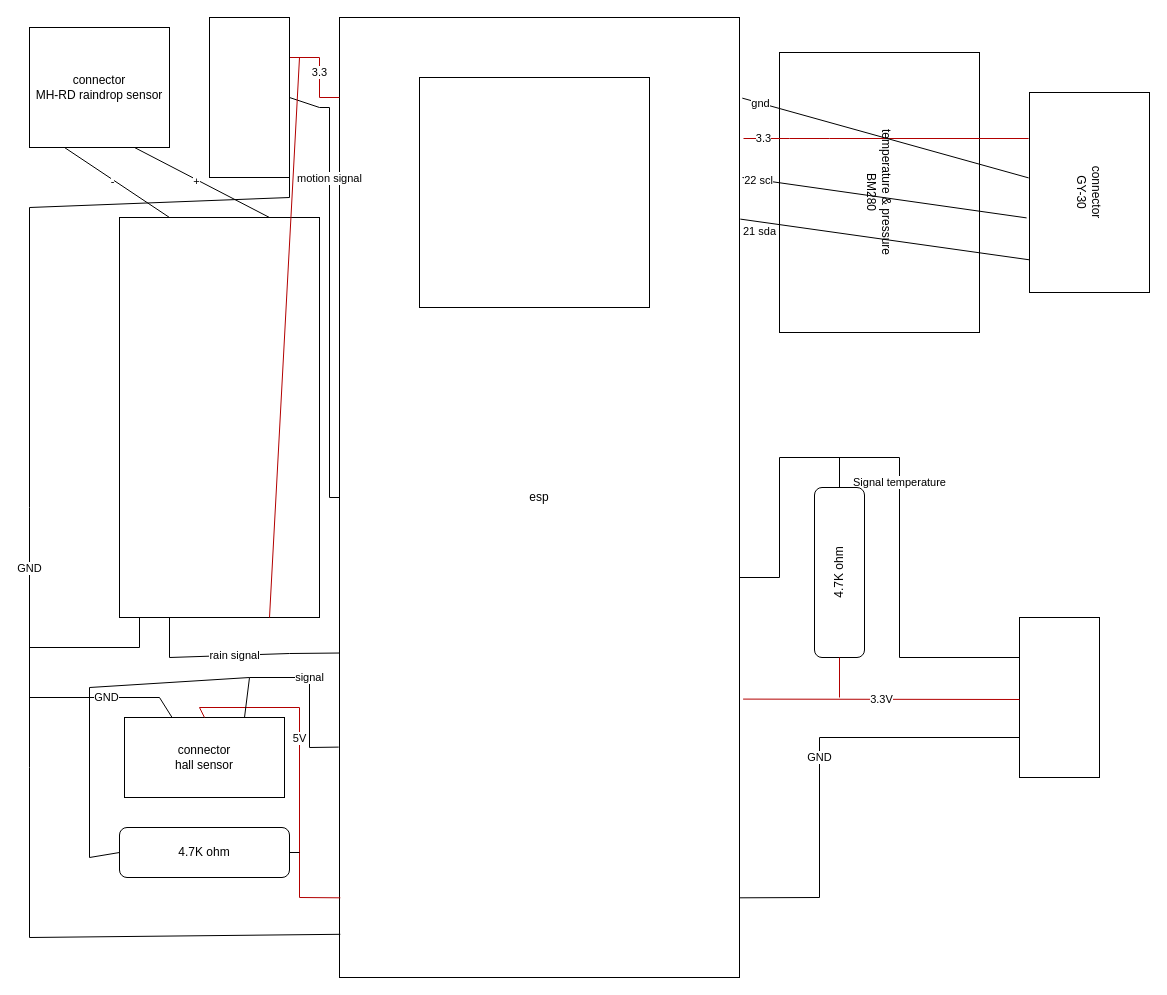
Some shapes in this 1167 by 995 pixel diagram are drawn without their labels. Here are the shapes that lost their labels. From the top down, the box of each, then its label:
(208, 16, 290, 178): connector HW-740
(118, 216, 320, 618): MH-RD raindrop sensor
(1018, 616, 1100, 778): connector DS18B20
